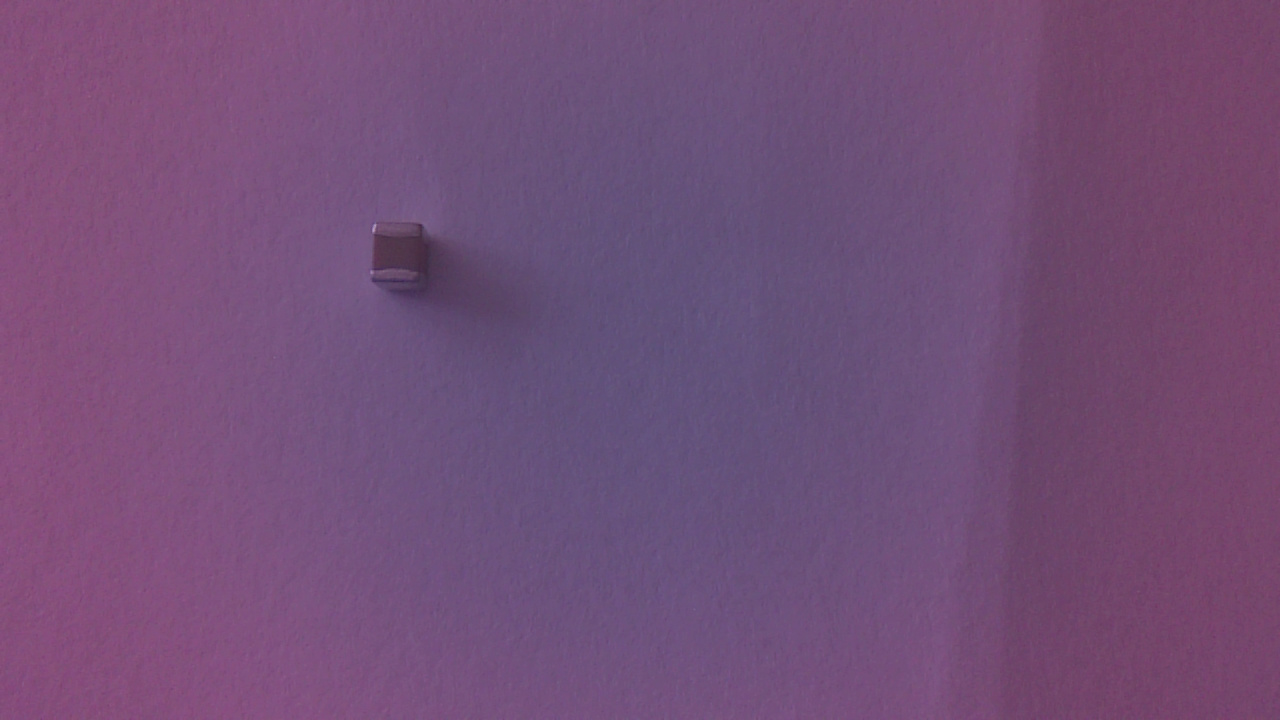Condensator: (367, 222, 437, 301)
